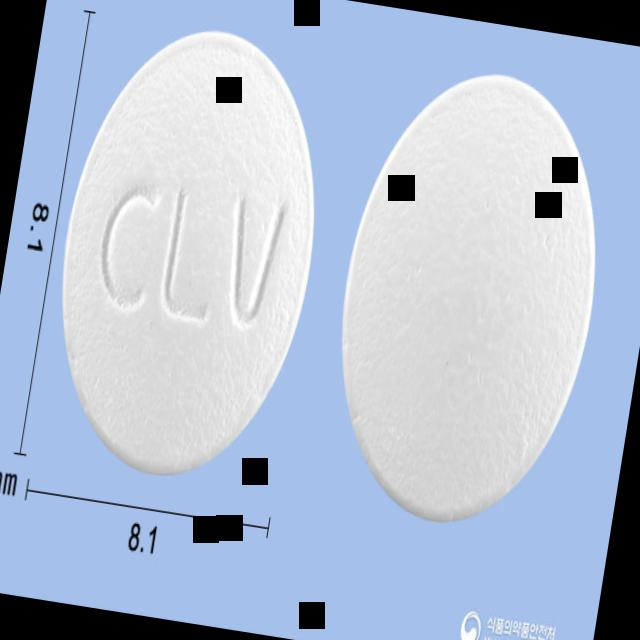Cefsin Cap: (31, 11, 345, 496), (313, 56, 626, 539)
